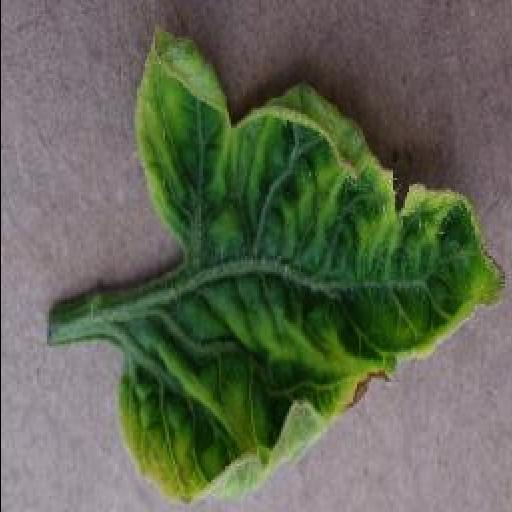disease_tomato: (114, 16, 504, 506)
